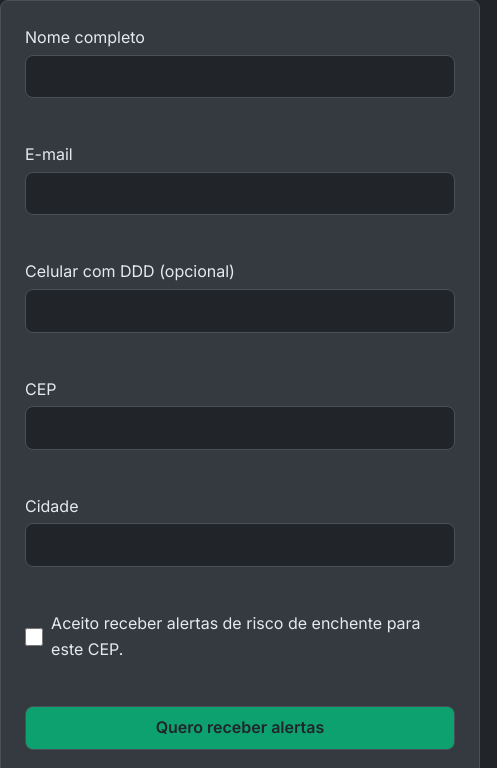
Test: SignupForm city autofill › fills the city when the CEP is unchanged
Type "01310-100" into the field labelled "CEP" at (240, 428), box x1=25 y1=406 x2=455 y2=450
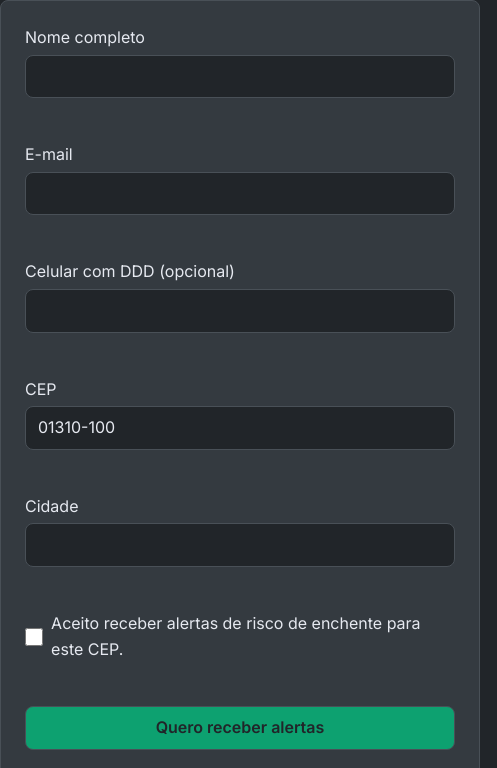
Leave the field labelled "CEP", box x1=25 y1=406 x2=455 y2=450
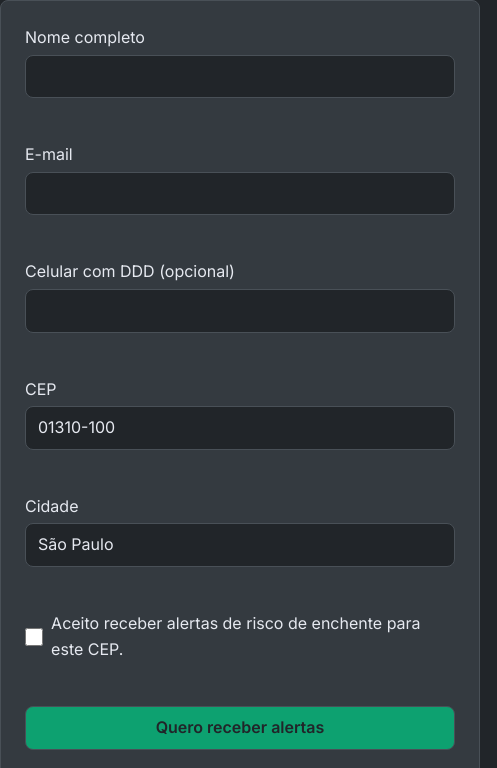
expect the field labelled "Cidade" holds "São Paulo": met, box x1=25 y1=523 x2=455 y2=567
